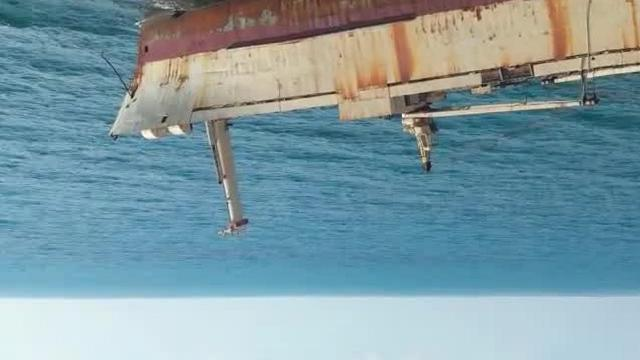rust: (327, 23, 438, 114), (119, 54, 208, 99), (541, 1, 588, 82), (275, 3, 384, 28)
